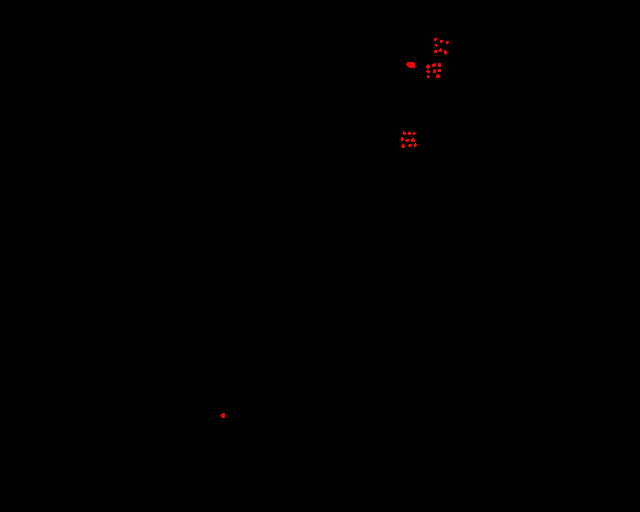Target: (406, 62, 415, 68), (220, 413, 225, 418), (426, 64, 430, 69), (432, 63, 436, 67), (436, 74, 440, 78), (411, 138, 415, 142), (401, 144, 405, 148), (444, 50, 447, 55), (405, 139, 410, 142), (439, 48, 442, 52), (438, 63, 441, 67), (433, 69, 436, 73), (426, 70, 430, 73), (403, 131, 406, 135), (408, 131, 411, 135), (401, 137, 404, 141), (414, 143, 417, 147), (408, 144, 412, 147), (434, 38, 437, 41), (440, 40, 443, 43), (446, 41, 449, 44), (435, 44, 438, 47), (434, 50, 437, 53), (438, 69, 441, 72), (427, 75, 430, 78), (413, 132, 416, 135)
